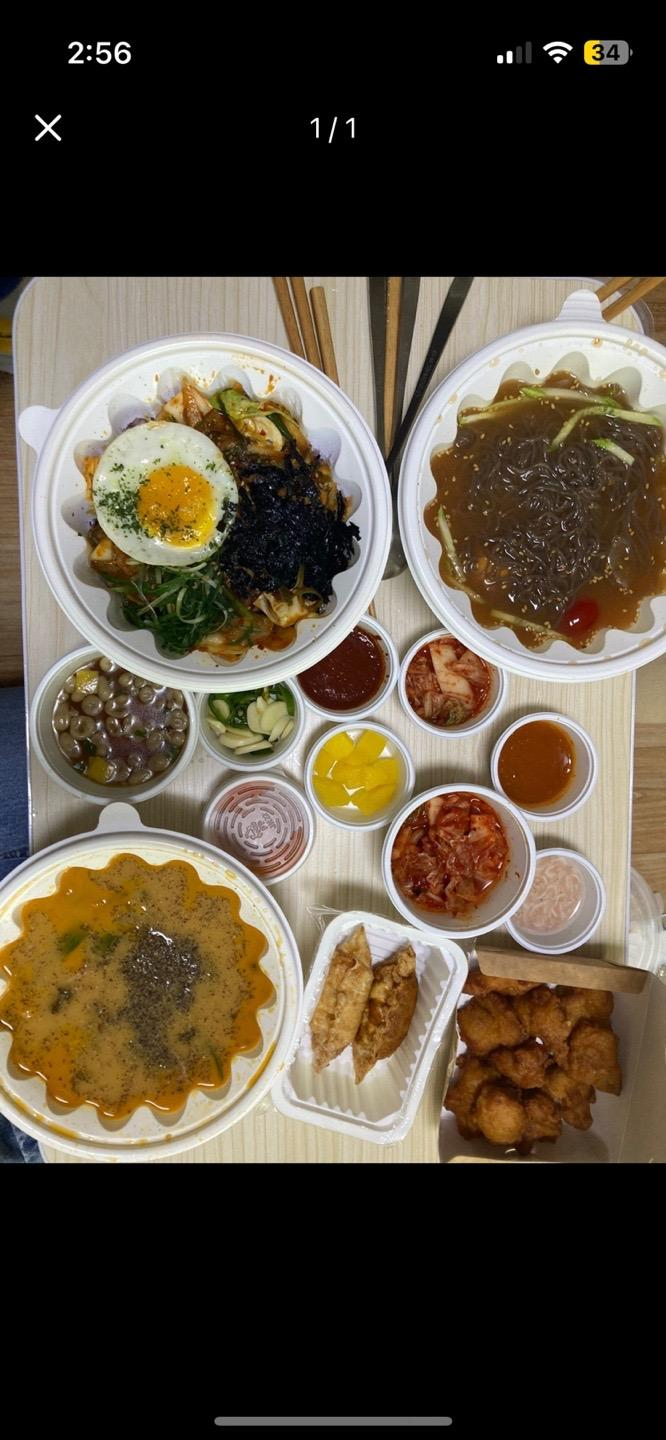Lunch Box: (18, 334, 391, 692), (0, 804, 302, 1160), (399, 291, 665, 680), (439, 949, 665, 1162), (272, 912, 467, 1142)
cup: (30, 647, 198, 804), (382, 781, 535, 938), (204, 772, 315, 885), (305, 721, 414, 829), (292, 615, 398, 722), (399, 631, 506, 737), (491, 713, 597, 819), (507, 848, 605, 954), (196, 681, 305, 769)
